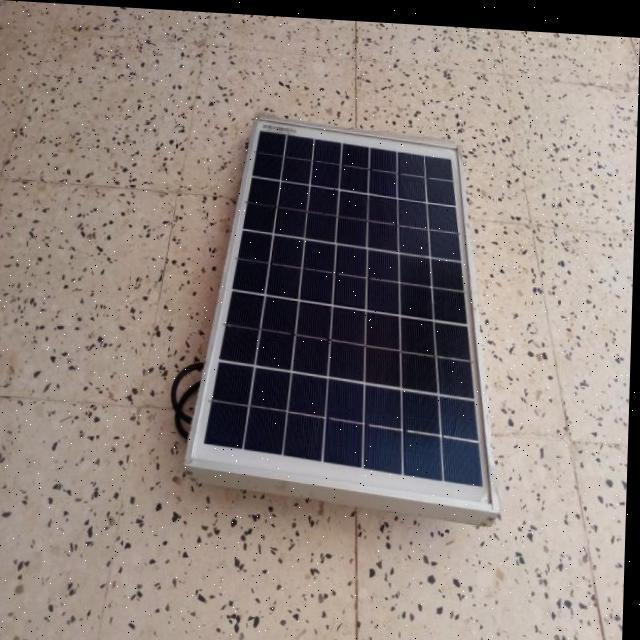Normal Solar Panel: (188, 116, 504, 508)
